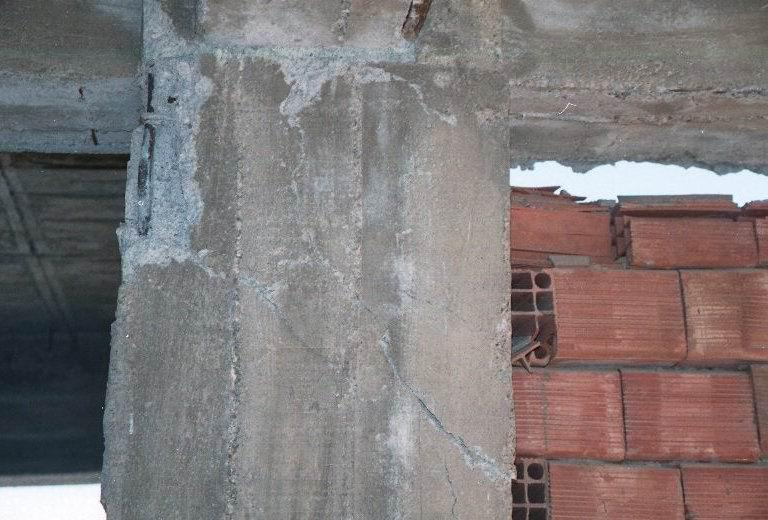crack: (354, 291, 512, 478), (398, 290, 469, 324), (242, 277, 279, 311), (0, 127, 135, 135), (444, 463, 458, 520)
damage: (118, 56, 190, 249)
